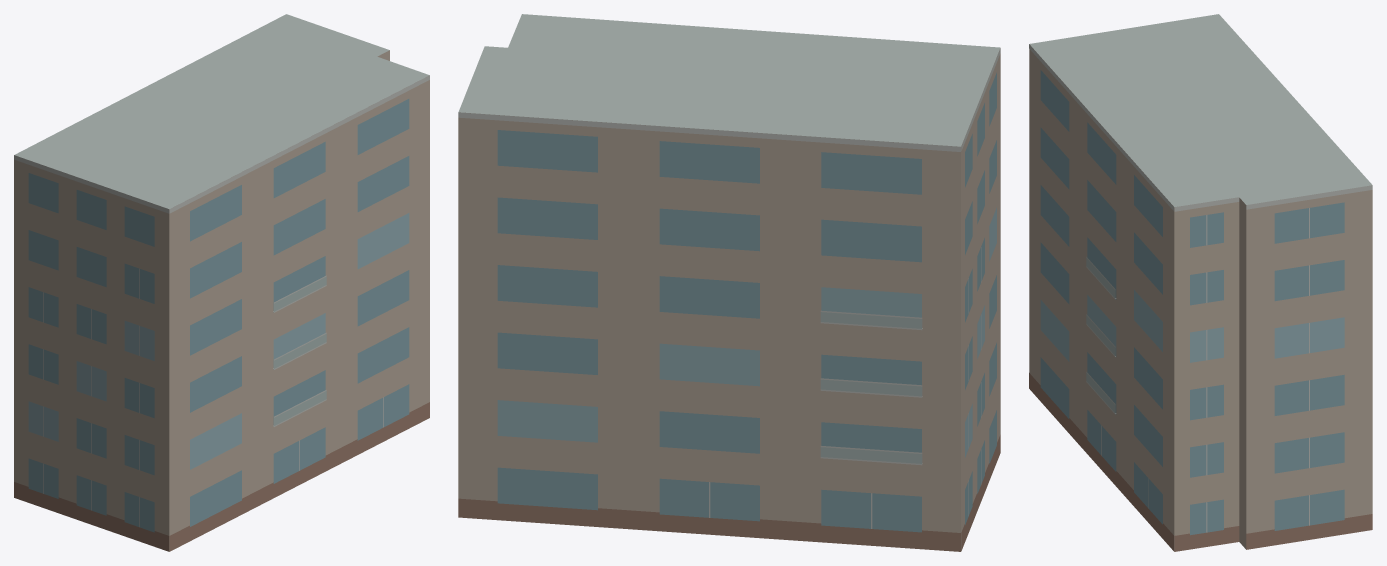
File: survey-upis-32969374.glb
The picture shows the model from 3 angles, left to right: view 1: azimuth 30°, elevation 25°; view 2: azimuth 150°, elevation 25°; view 3: azimuth 270°, elevation 25°; orthographic projection. The views are drawn at different scales.
Visible parts, largest first — view 1: survey-upis-32969374.tmp; view 2: survey-upis-32969374.tmp; view 3: survey-upis-32969374.tmp.
Boxes of the visible parts, x1=… form: survey-upis-32969374.tmp: x1=14, y1=14, x2=429, y2=551; survey-upis-32969374.tmp: x1=458, y1=14, x2=1000, y2=551; survey-upis-32969374.tmp: x1=1029, y1=14, x2=1372, y2=551.
Bounding box in the file's own units: 22.01 × 18.3 × 16.54.
